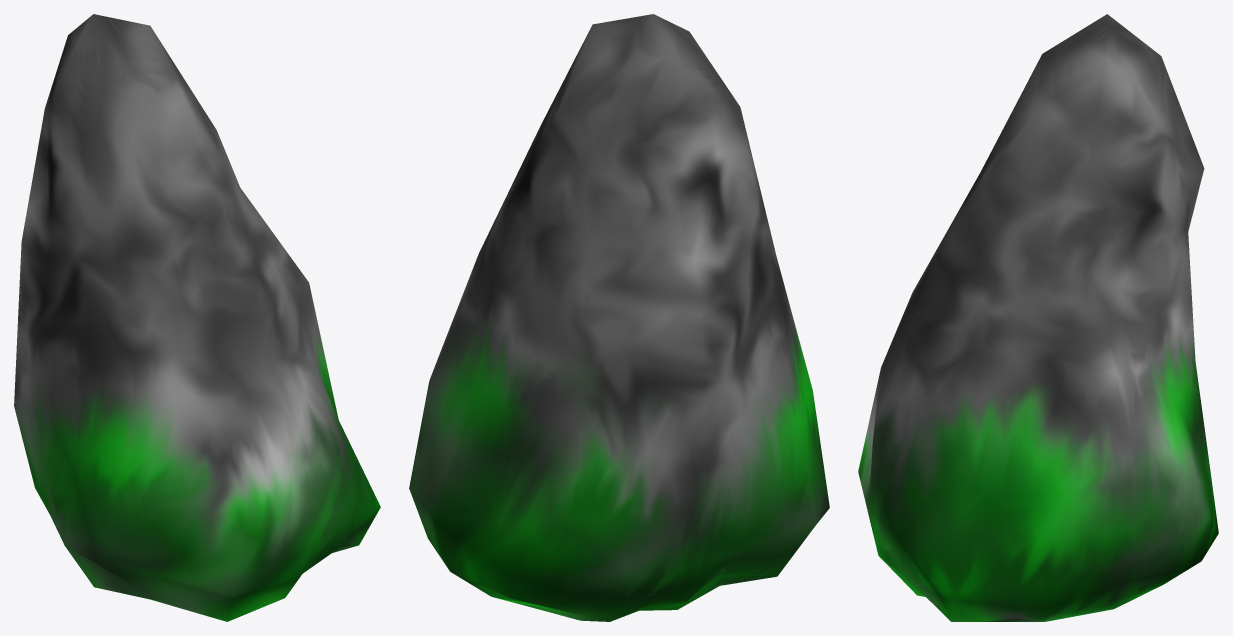
File: StoneSmooth3.fbx
3 views of the same model, side by side, from view 1: azimuth 30°, elevation 25°; view 2: azimuth 150°, elevation 25°; view 3: azimuth 270°, elevation 25° (orthographic). The views are drawn at different scales.
Parts seen in each view (by area): view 1: Stone3_Smooth; view 2: Stone3_Smooth; view 3: Stone3_Smooth.
Part boxes in pixels (bbox=[...]): Stone3_Smooth: bbox=[14, 14, 380, 621]; Stone3_Smooth: bbox=[409, 14, 829, 621]; Stone3_Smooth: bbox=[858, 14, 1218, 621].
Bounding box in the file's own units: 182 × 331 × 197.
1 material, 1 textured.
